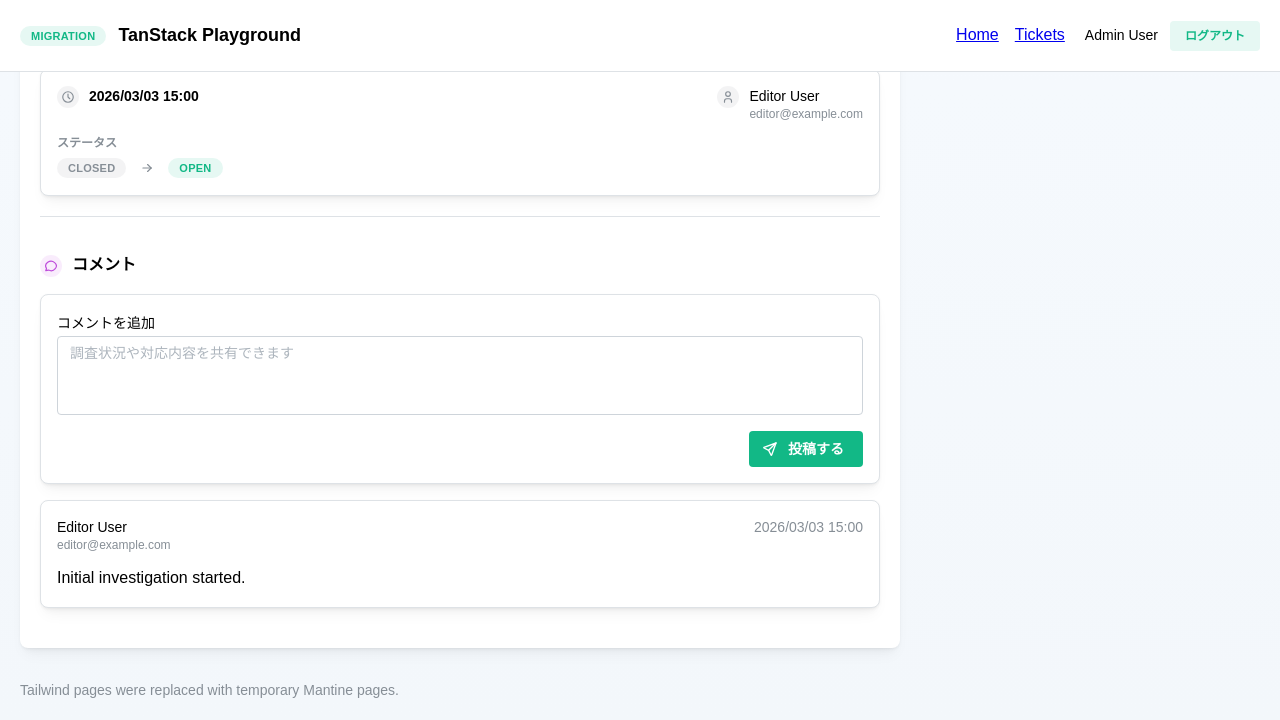
ticket CRUD routes › deletes an authored comment on the detail page
This screenshot has width=1280, height=720.
(page scrolled)
Check: the text "Initial investigation started." is shown, box top-left (57, 569), bottom-right (246, 586)
Type "We are investigating this now." into the text box labelled "コメントを追加". click: x=460, y=376
box: top-left (57, 336), bottom-right (863, 415)
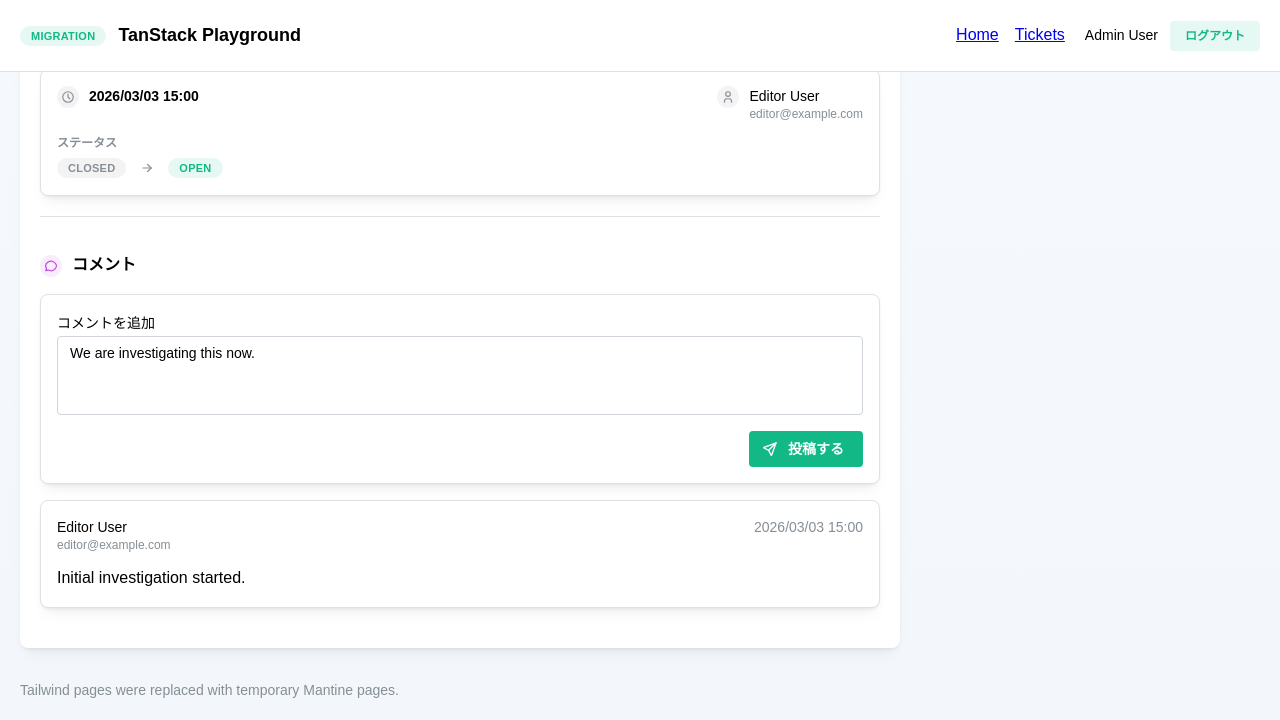
Click the button "投稿する". click: x=806, y=449
box: top-left (749, 431), bottom-right (863, 467)
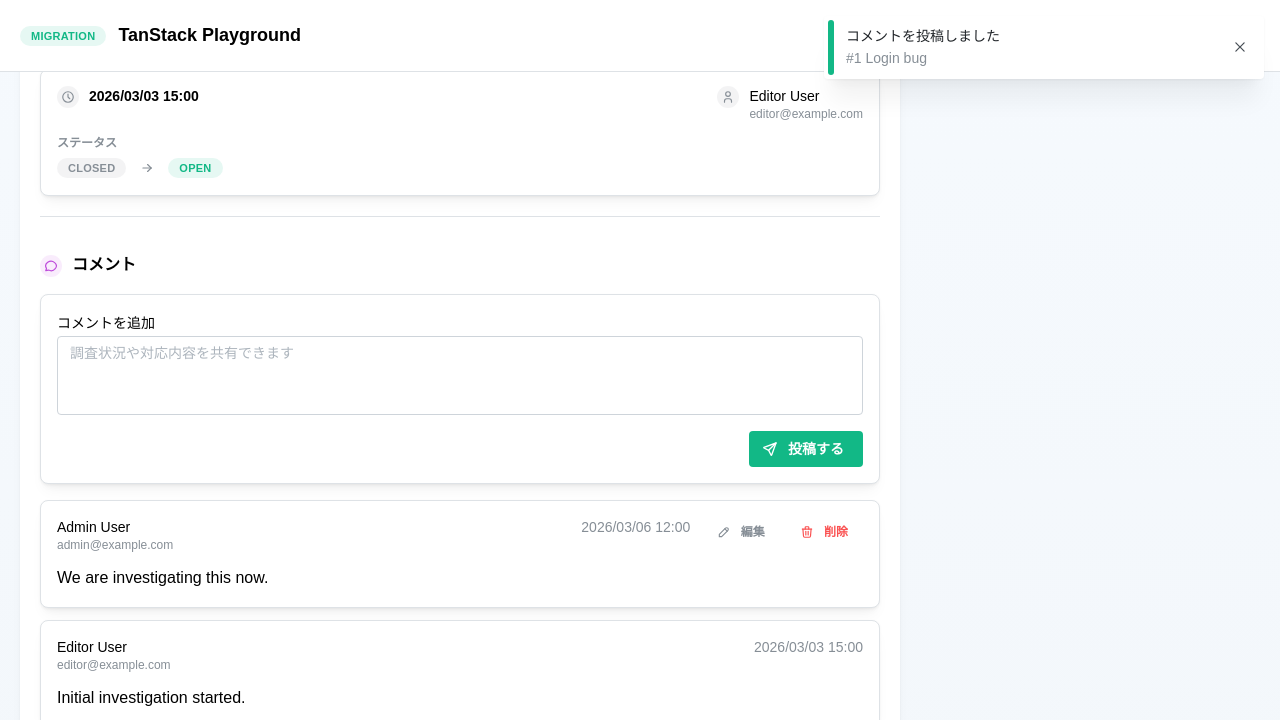
Check: the text "We are investigating this now." is shown, box top-left (57, 569), bottom-right (268, 586)
Click the button with aria-label "コメント 102 を削除". click: x=826, y=532
box: top-left (790, 517), bottom-right (863, 547)
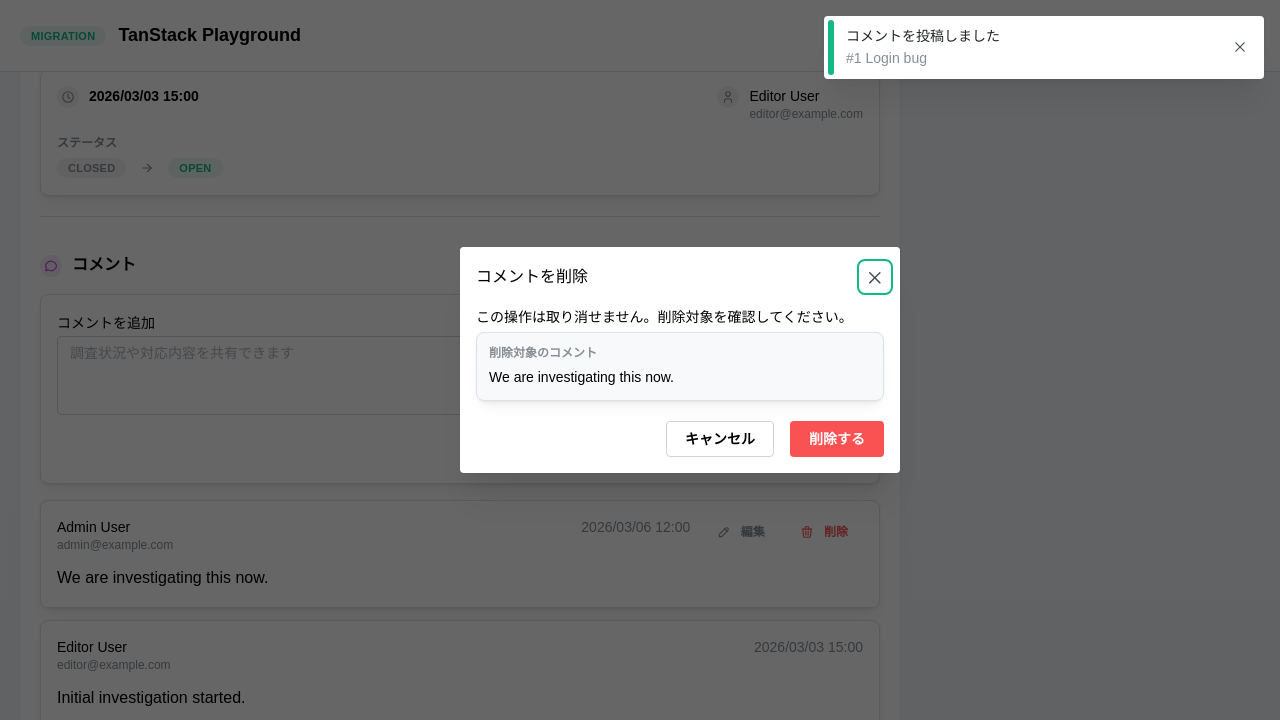
Check: the text "この操作は取り消せません。削除対象を確認してください。" is shown, box top-left (476, 307), bottom-right (884, 328)
Check: the text "We are investigating this now." is shown, box top-left (489, 369), bottom-right (674, 385)
Click the button "削除する". click: x=837, y=439
box: top-left (790, 421), bottom-right (884, 457)
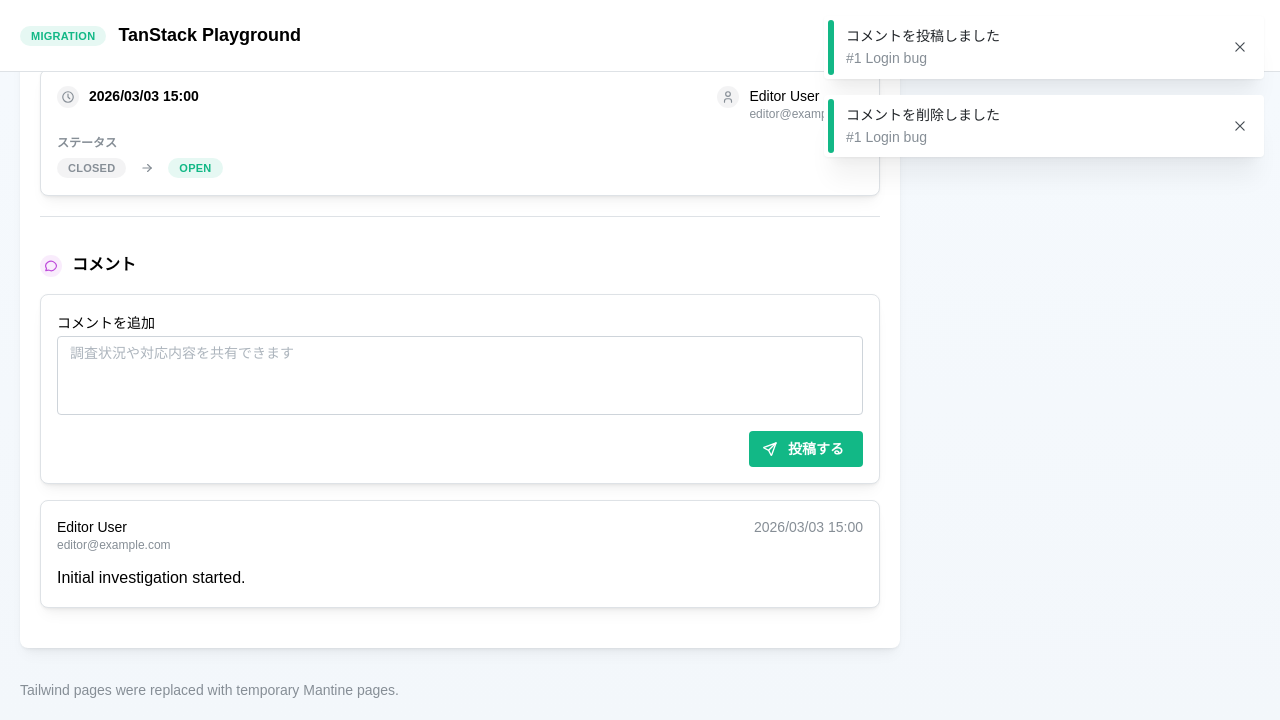
Check: the text "Initial investigation started." is shown, box top-left (57, 569), bottom-right (246, 586)
Check: the text "コメントを削除しました" is shown, box top-left (846, 107), bottom-right (1000, 123)
Check: the text "We are investigating this now." is gone
